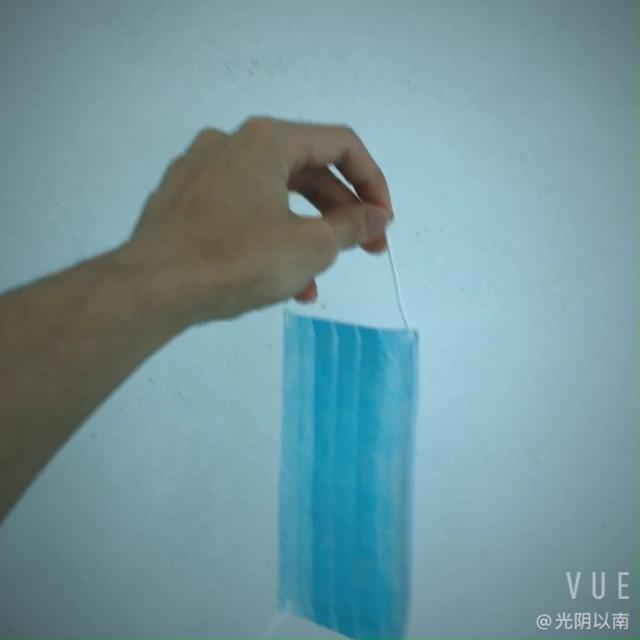non-organic waste: (262, 301, 449, 623)
